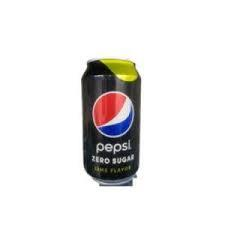pepsi_zero: (77, 56, 145, 190)
